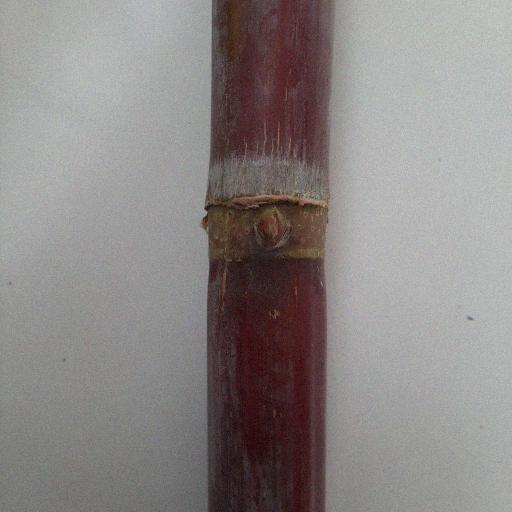Bud: (249, 204, 290, 253)
